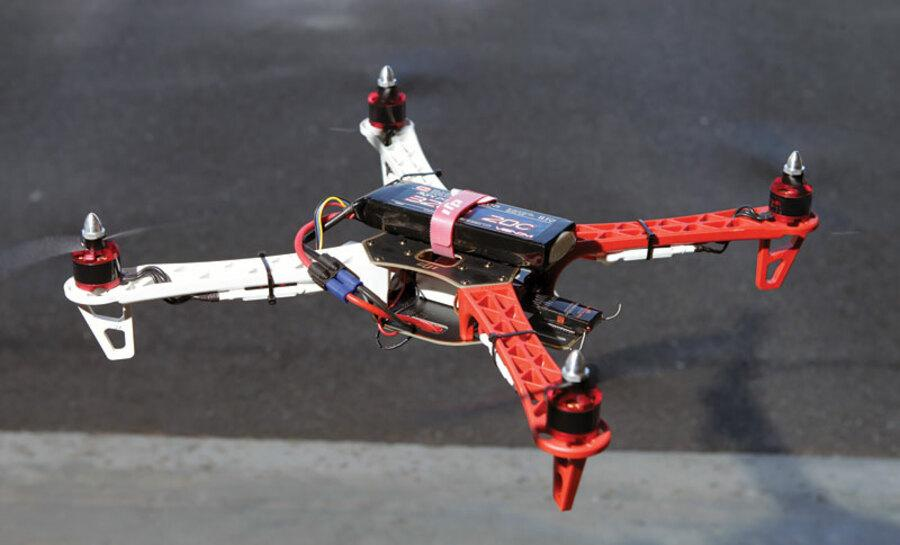drone: (46, 40, 842, 518)
